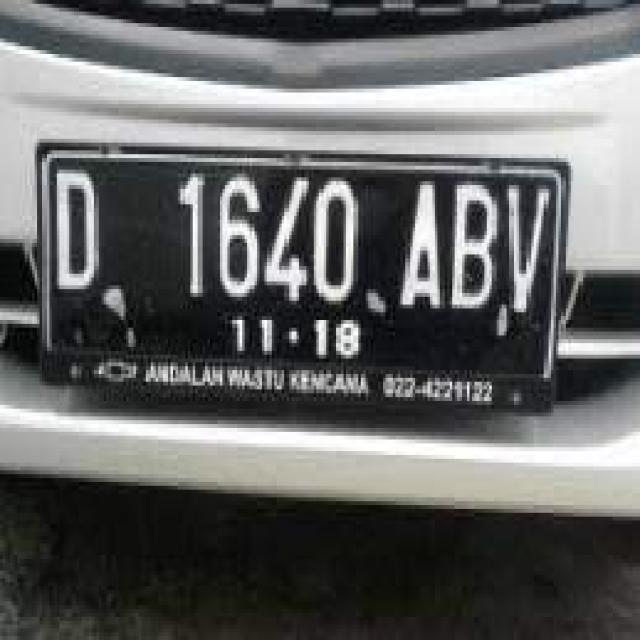license-plat: (33, 134, 576, 418)
